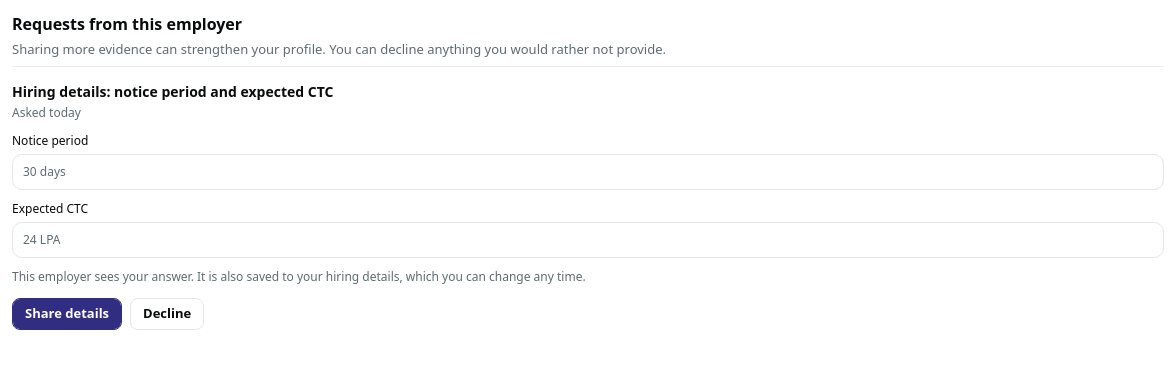
Scenario: CandidateRequestsCard hiring request › blocks an empty submit
Click the button "Share details" at (67,314), box [12,298,122,330]
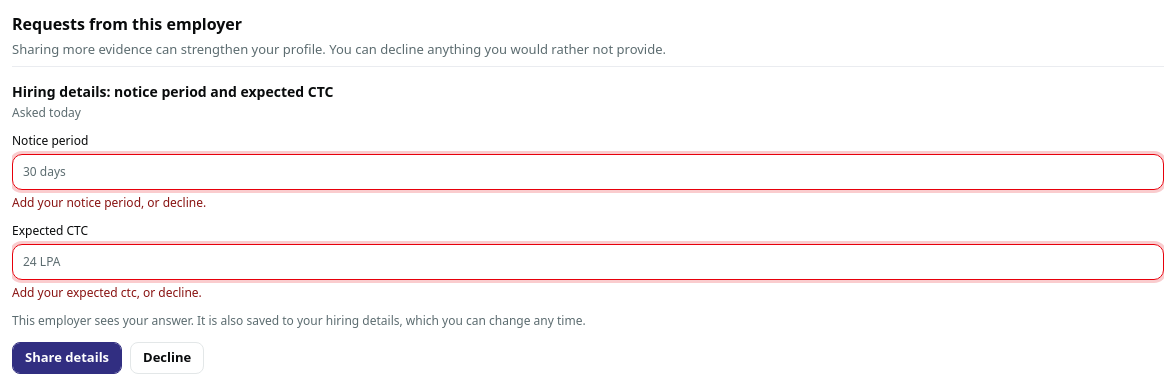
Expected: the number of messages is 2, [12,194,206,210]; [12,284,202,300]
